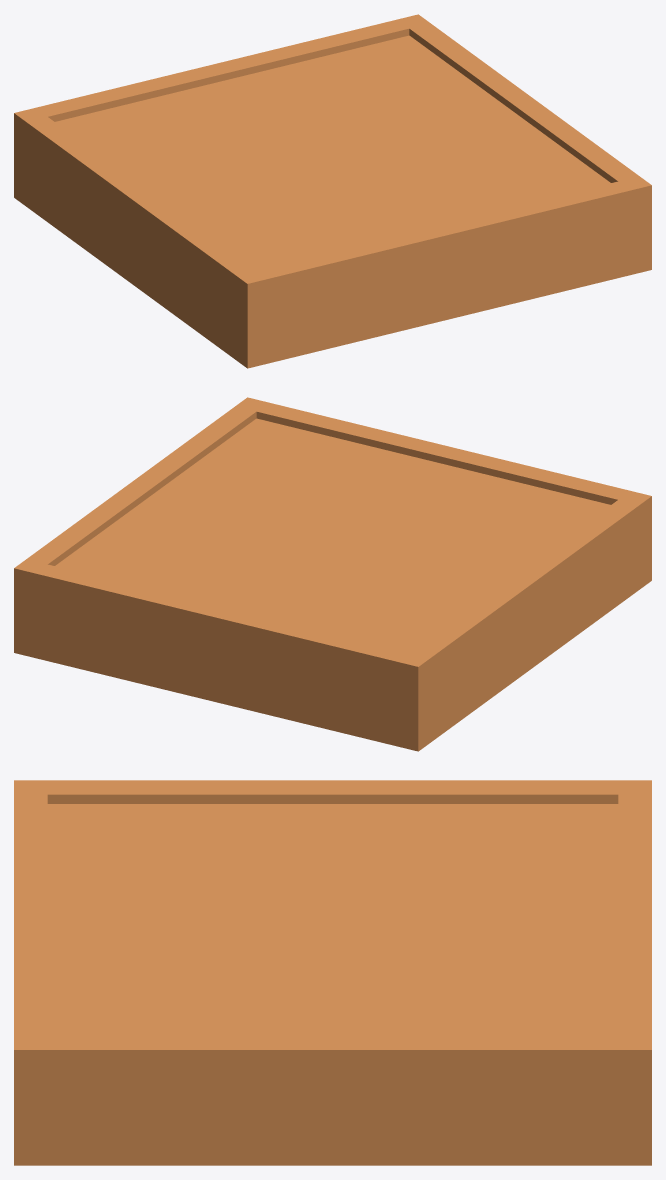
File: box_inner.glb
3 views of the same model, one above another, from view 1: azimuth 30°, elevation 25°; view 2: azimuth 150°, elevation 25°; view 3: azimuth 270°, elevation 25° (orthographic). The views are drawn at different scales.
Visible parts, largest first — view 1: box.r; view 2: box.r; view 3: box.r.
Boxes of the visible parts, x1=… form: box.r: x1=14, y1=14, x2=651, y2=368; box.r: x1=14, y1=397, x2=651, y2=751; box.r: x1=14, y1=780, x2=651, y2=1165.
Bounding box in the file's own units: 15.26 × 3.05 × 15.26.
